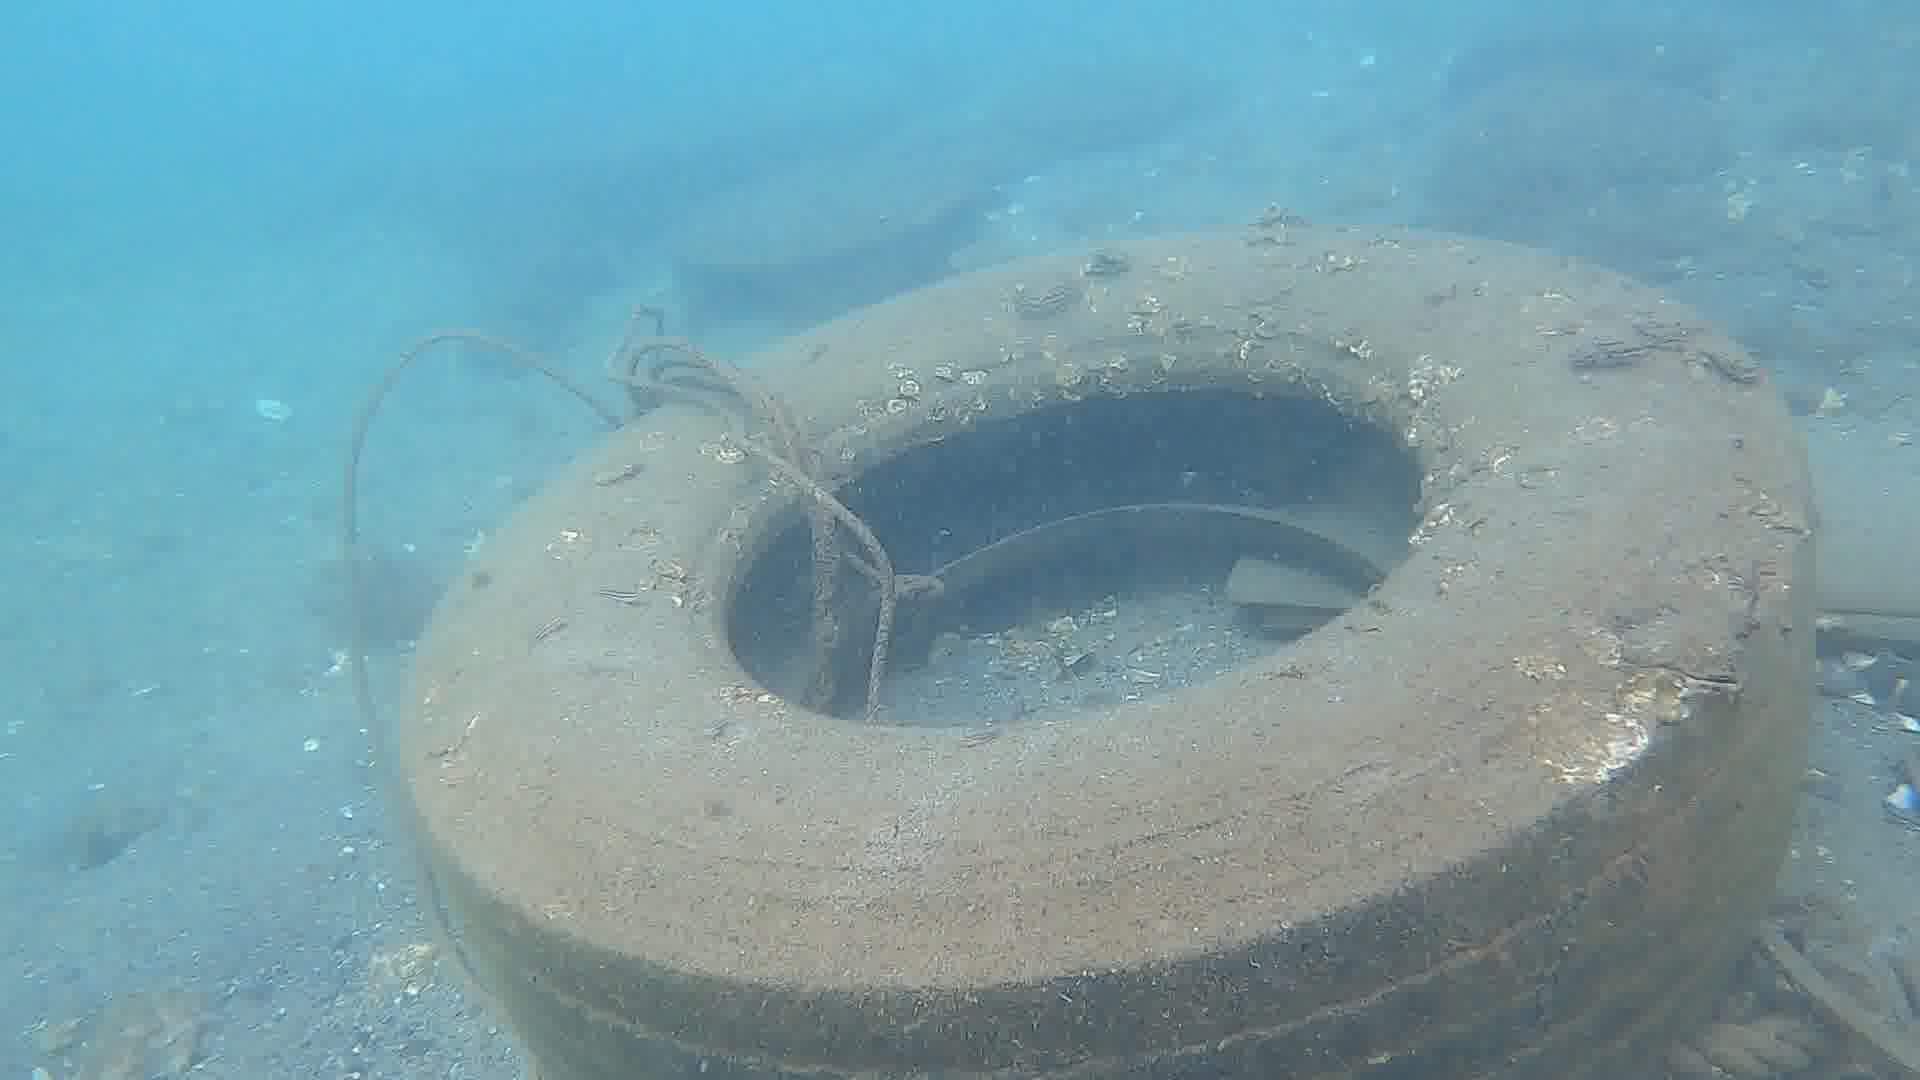bundle of ropes: (338, 299, 949, 740)
rope: (1648, 1004, 1842, 1080)
tire: (394, 218, 1829, 1080)
